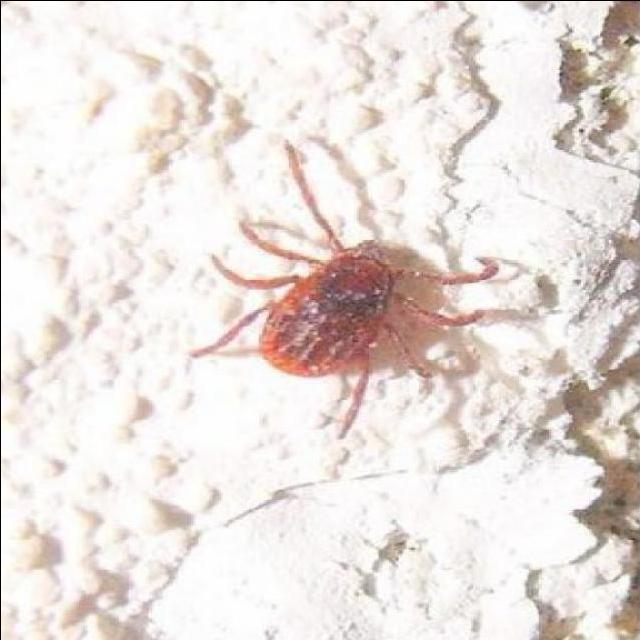Rhipicephalus Sanguineus-F: (189, 139, 499, 439)
